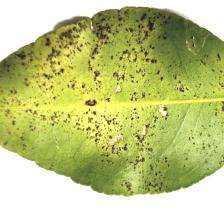canker: (43, 33, 173, 167)
